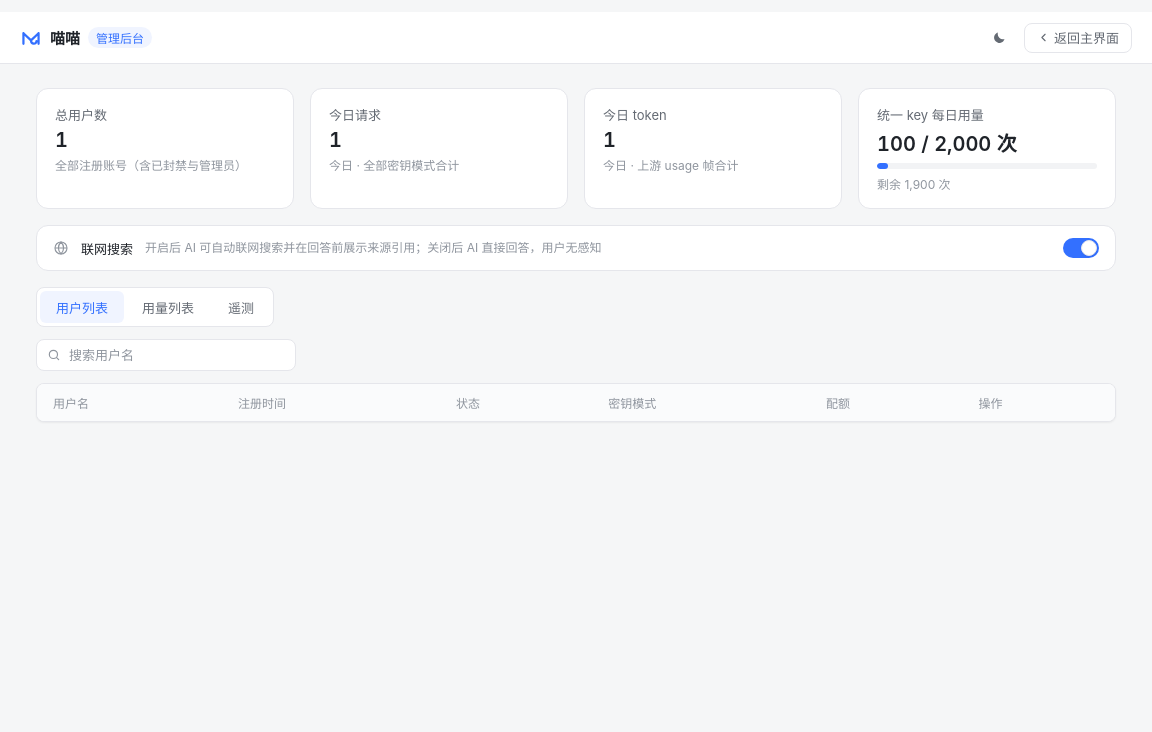
缺失态与空态（铁律 5：永不显 0/NaN，走查条 39/40） › 合法 0 降幅如实显 0.0%（压缩前后同规模；与缺失徽标视觉语言不同——变异断言）
The image size is (1152, 732).
Click the radio button labelled "遥测" at {"x": 241, "y": 307}, box [212,291,270,323]
(page scrolled)
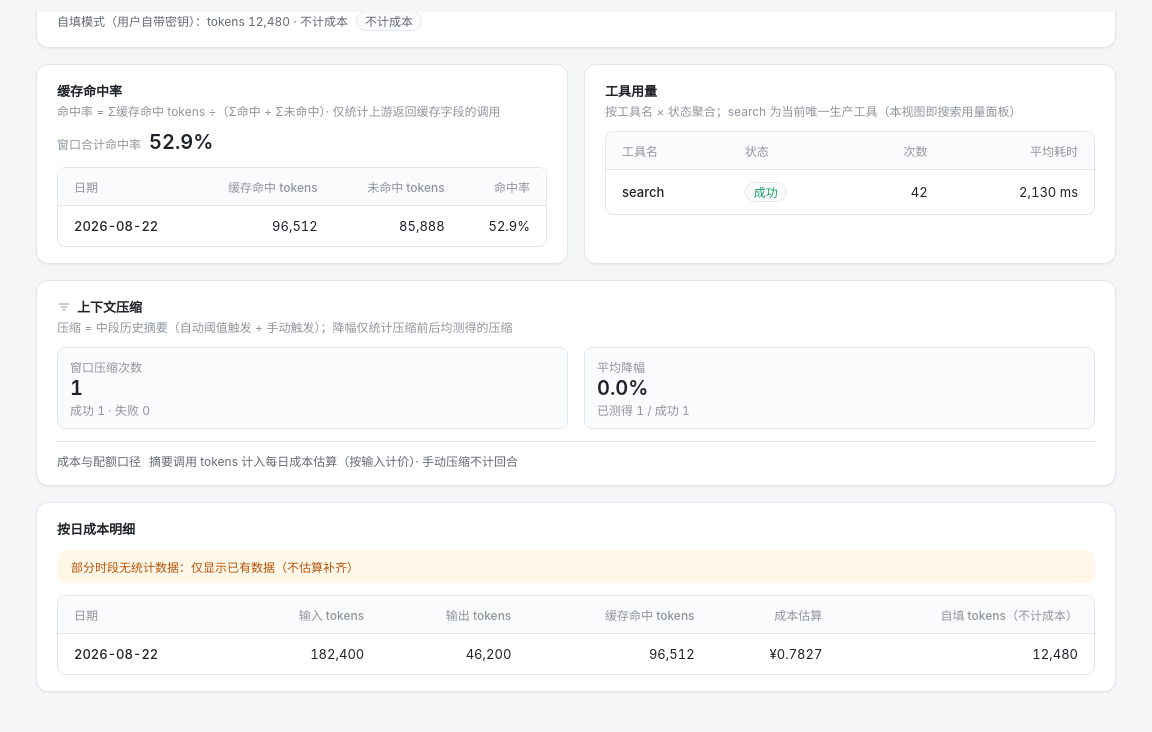
Result: the text with class "tc-big" reads "0.0%" at [597,376,648,400]
